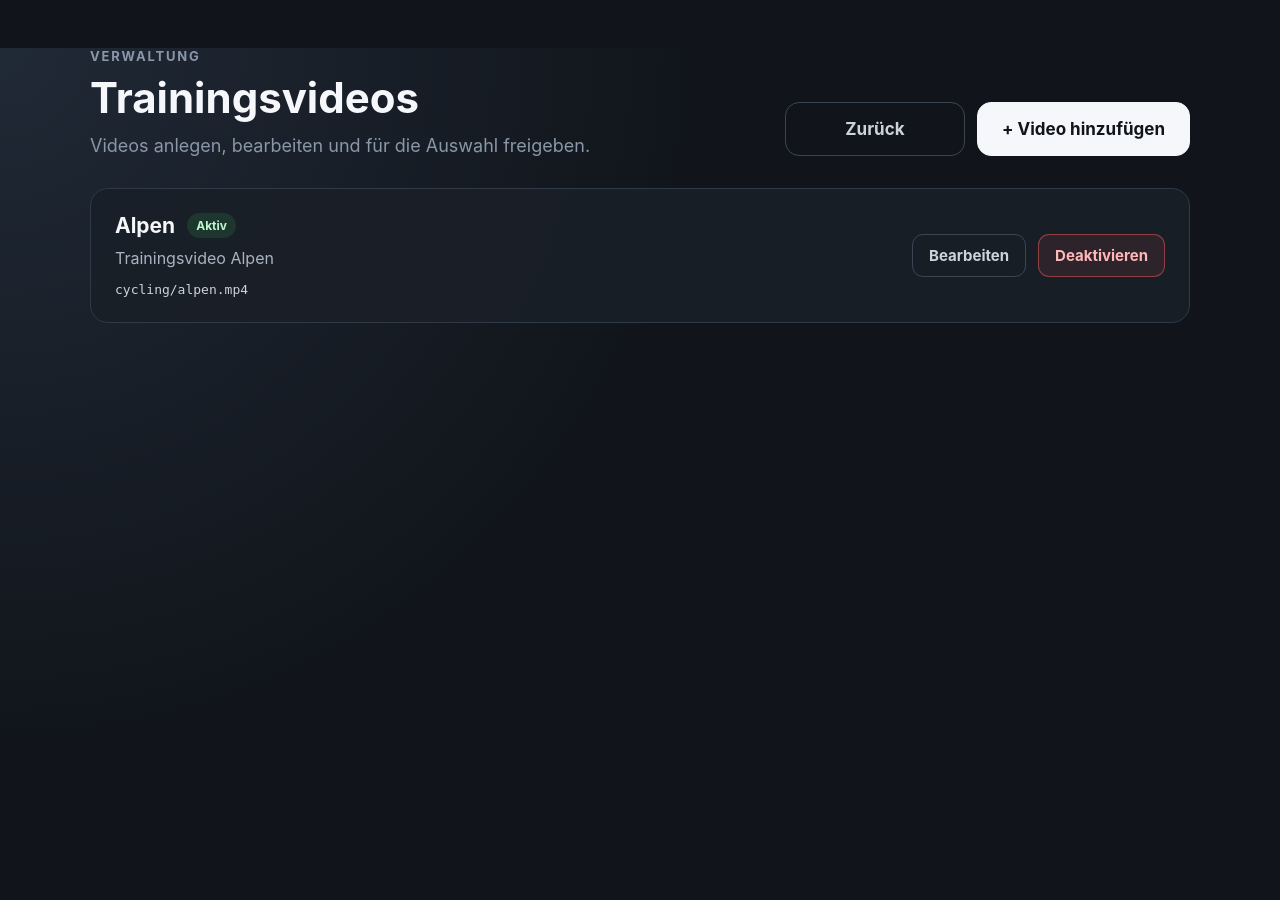
Scenario: WorkoutVideoManagement › creates a workout video
The width and height of the screenshot is (1280, 900).
Expected: the text "Alpen" is shown, [115,213,175,238]
Click the button "+ Video hinzufügen".
click(1083, 129)  # box [977,102,1190,156]
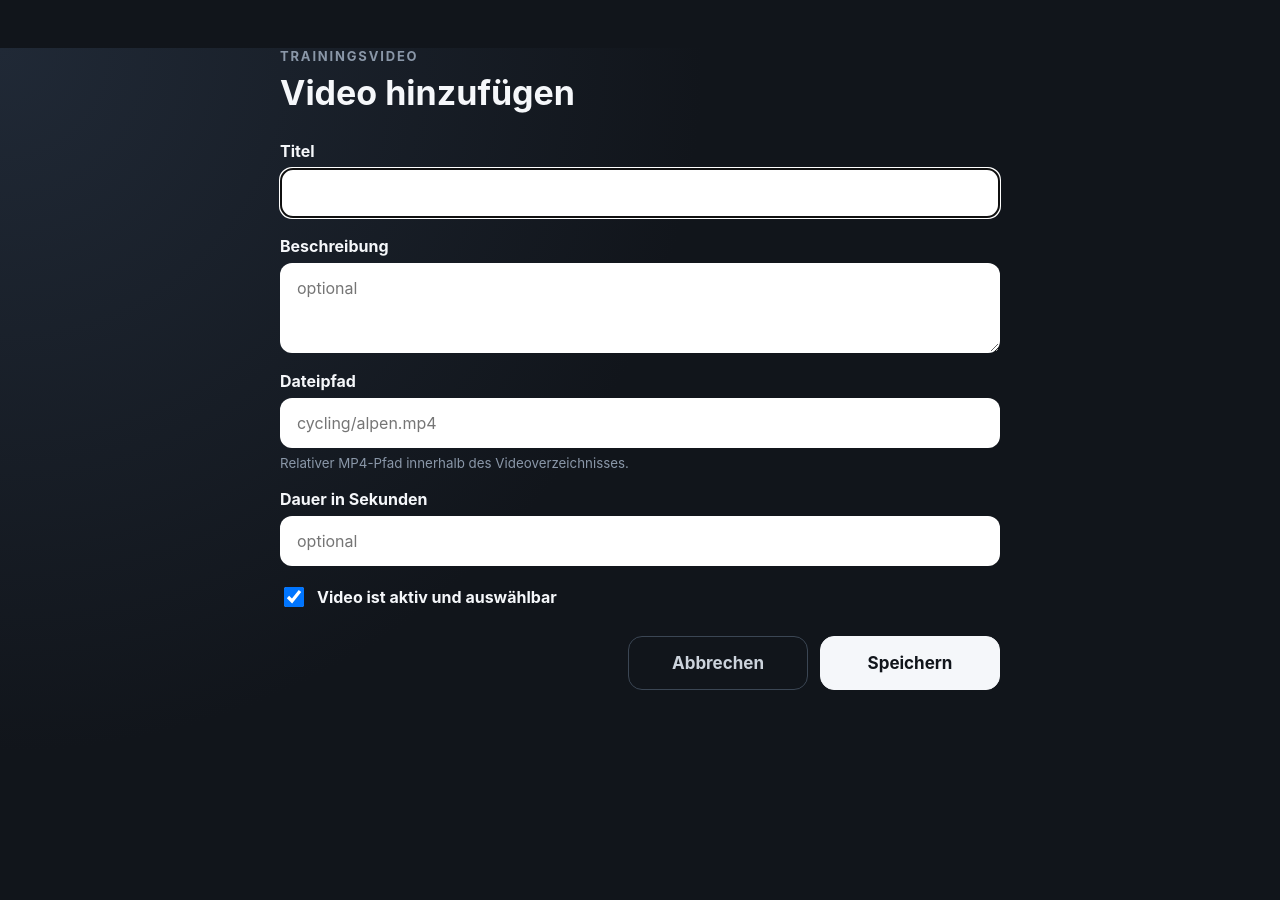
Type "Küste" into the field labelled "Titel".
click(640, 193); type("Küste")  # box [280,168,1000,218]
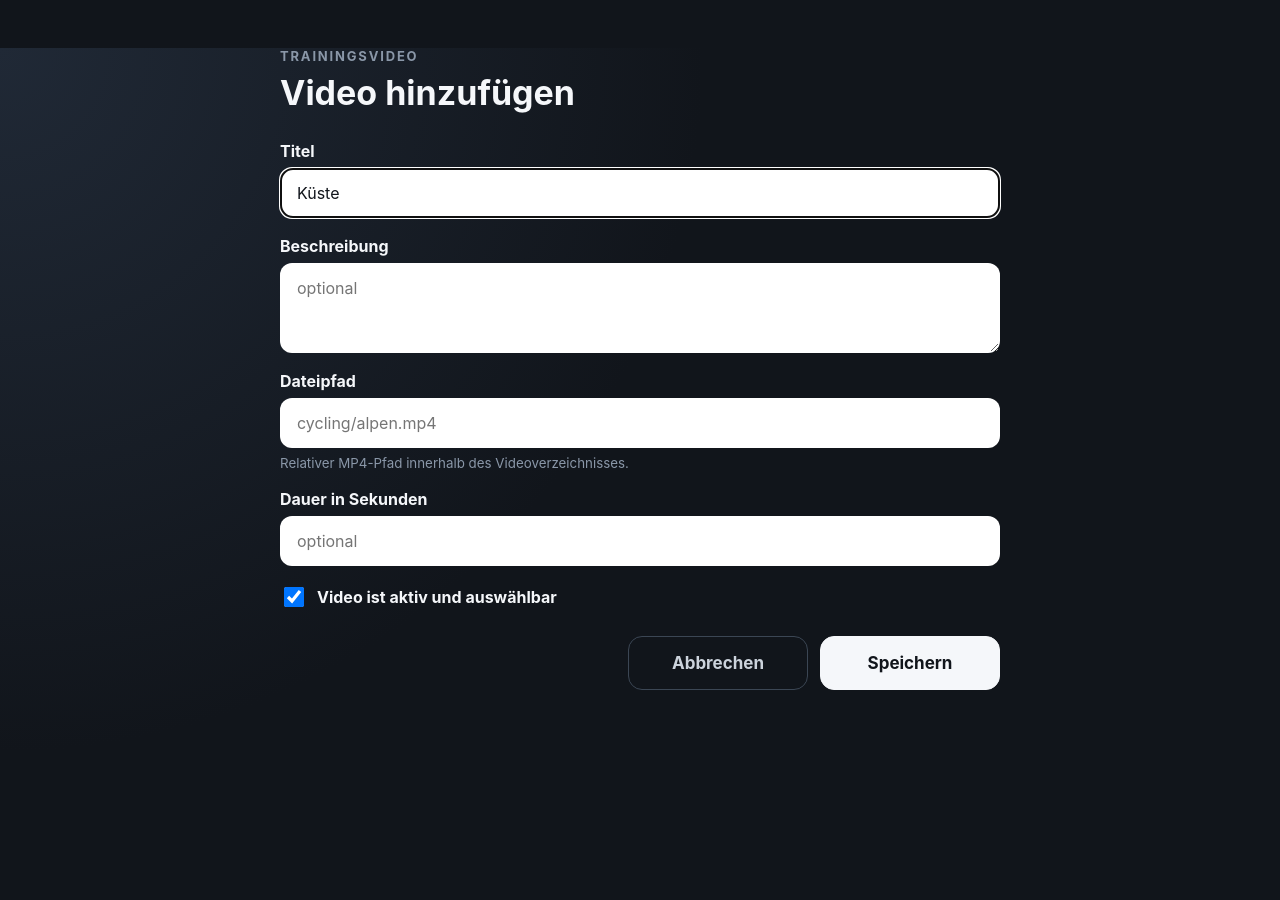
Type "cycling/kueste.mp4" into the field labelled "Dateipfad".
click(640, 423); type("cycling/kueste.mp4")  # box [280,398,1000,448]
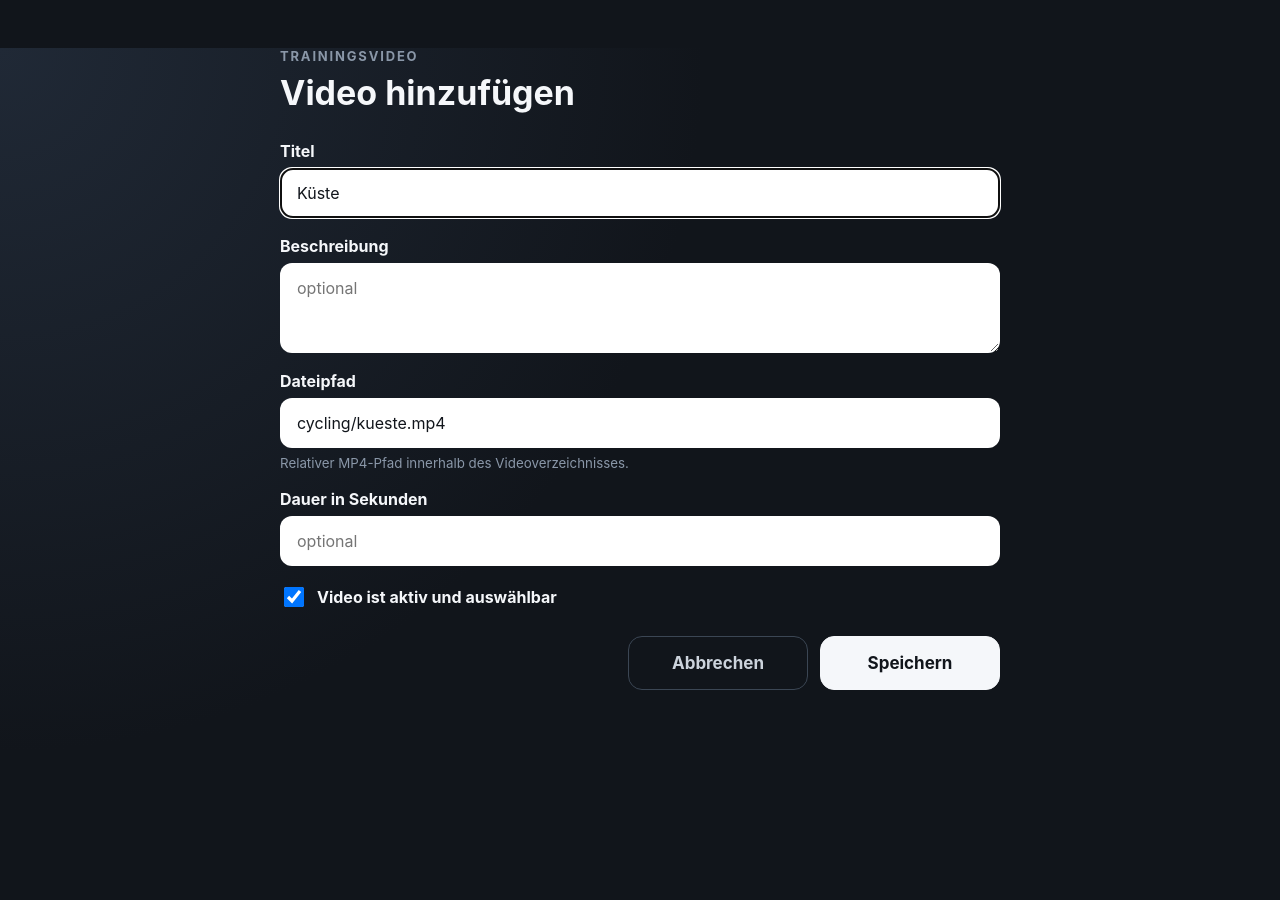
Type "2700" into the number field labelled "Dauer in Sekunden".
click(640, 541); type("2700")  # box [280,516,1000,566]
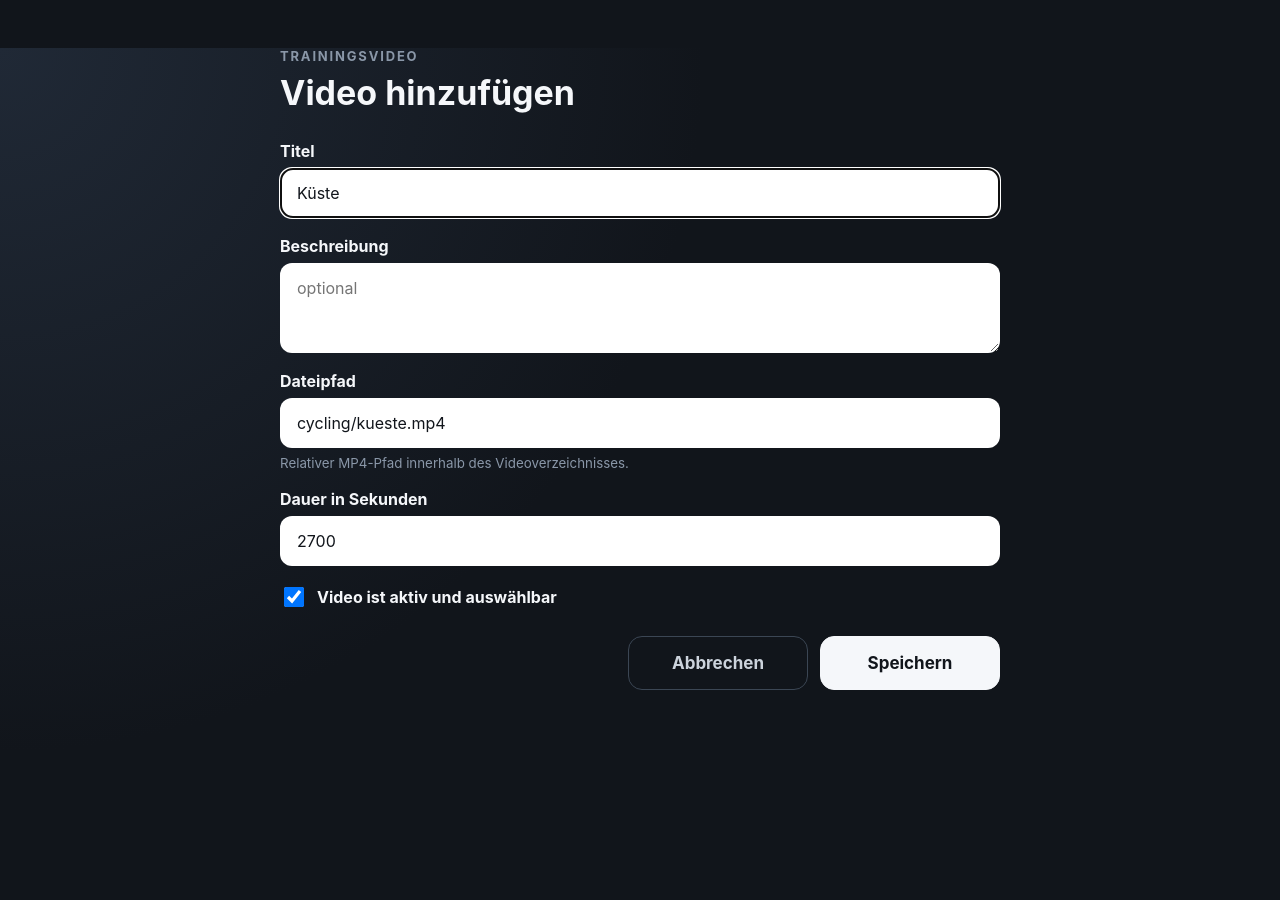
Click the button "Speichern".
click(910, 663)  # box [820,636,1000,690]
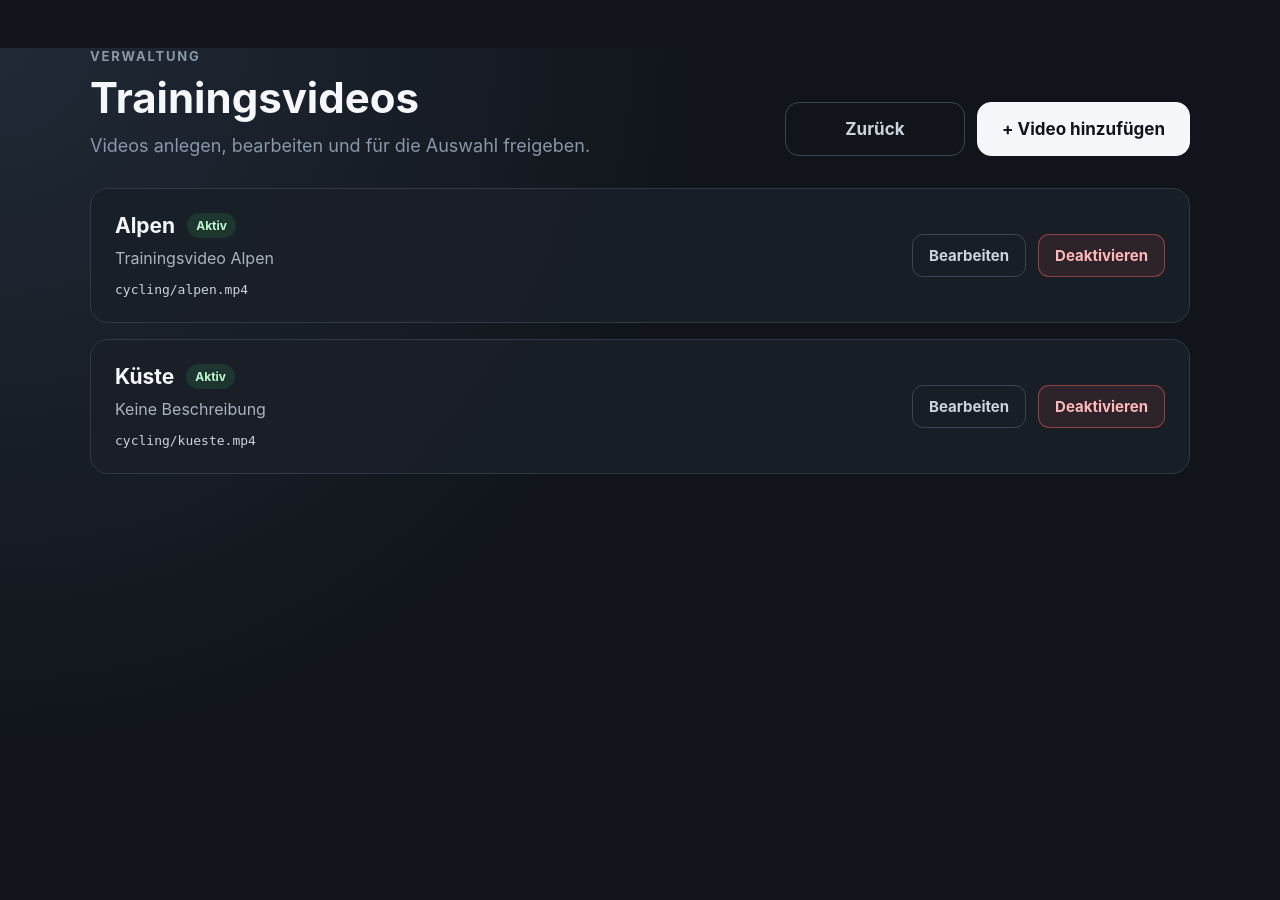
Expected: the text "Küste" is shown, [115,364,174,389]
